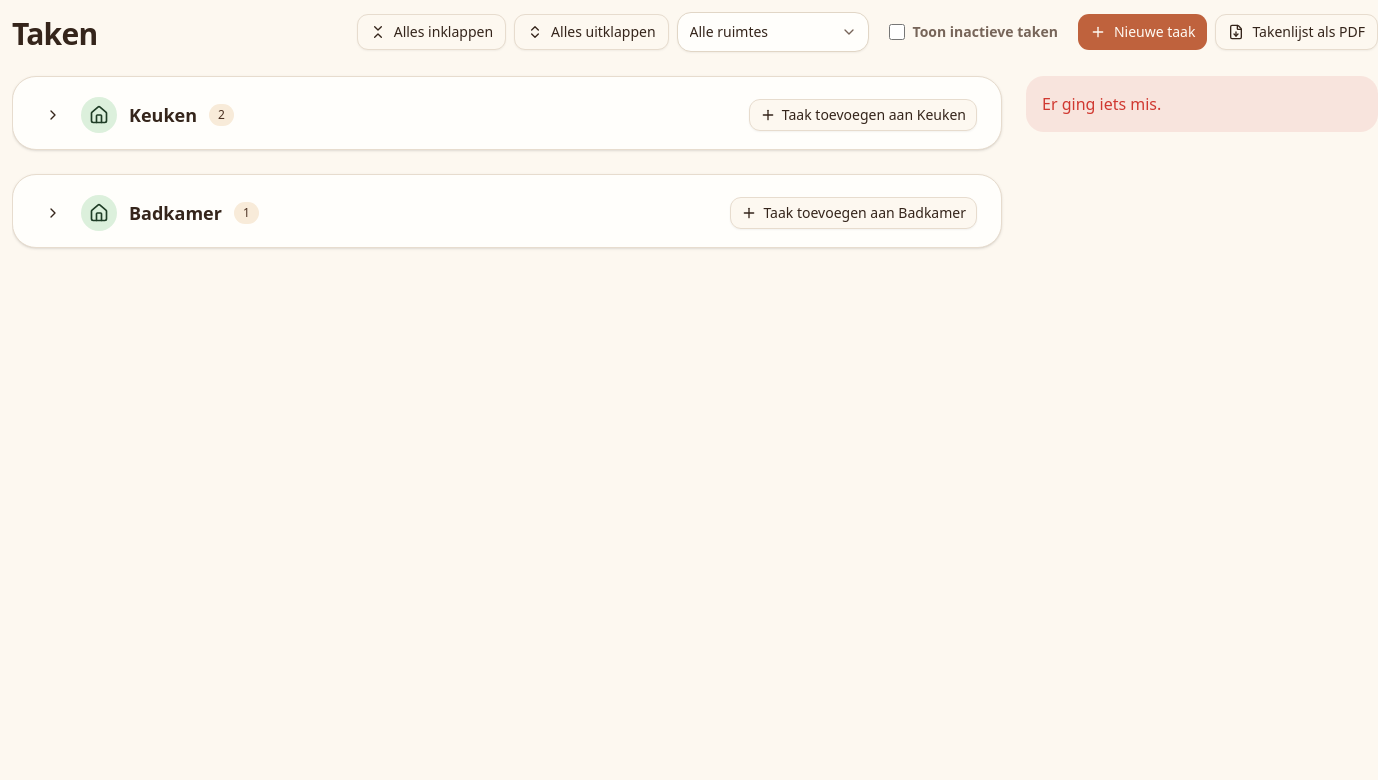
TasksPage — grouping › starts with every room collapsed and can expand one room or all rooms
Expected: the text "Aanrecht" is not shown
Expected: the text "Douche" is not shown
Click the button named "Keuken uitklappen". click: (53, 115)
box: [37,99,69,131]
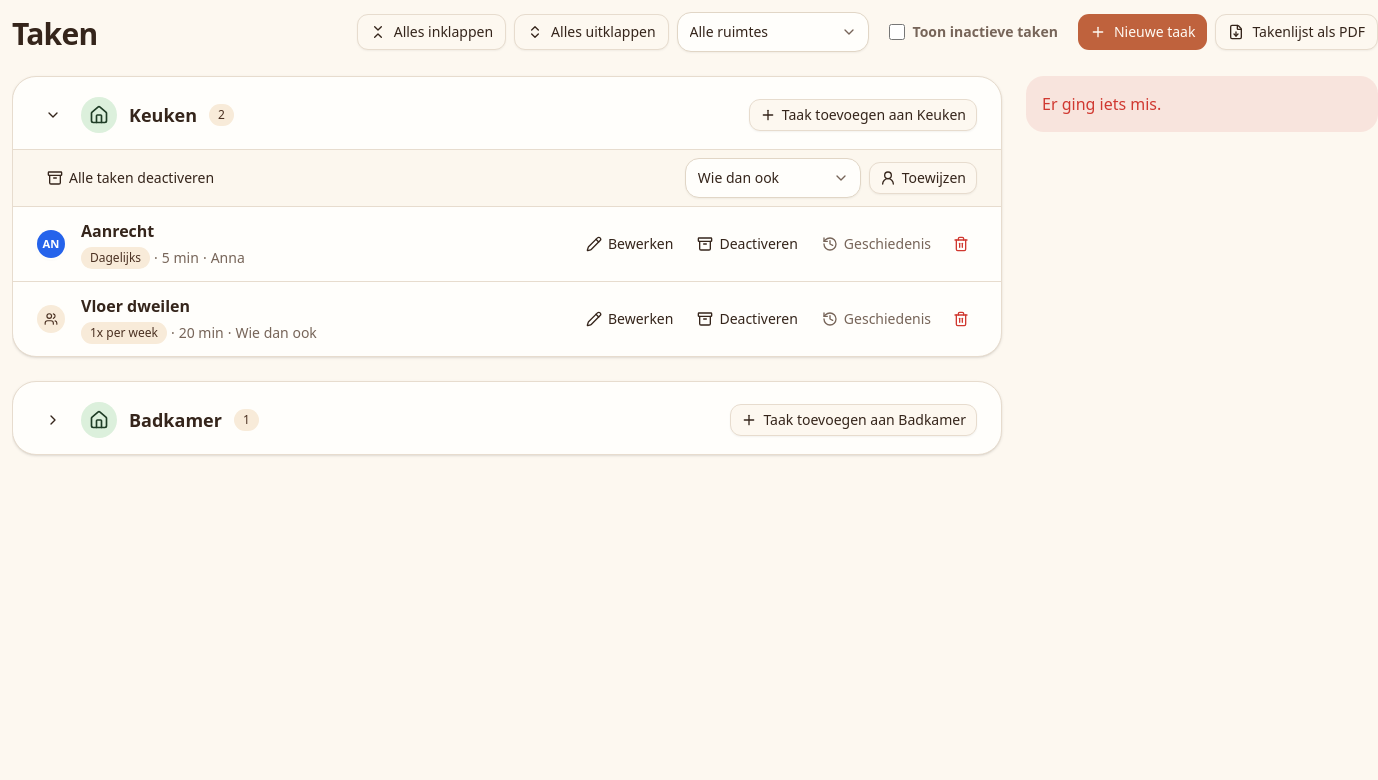
Expected: the text "Douche" is not shown
Expected: the text "Aanrecht" is shown, [81,219,154,243]
Click the button "Alles inklappen". click: (431, 32)
box: [357,14,506,50]
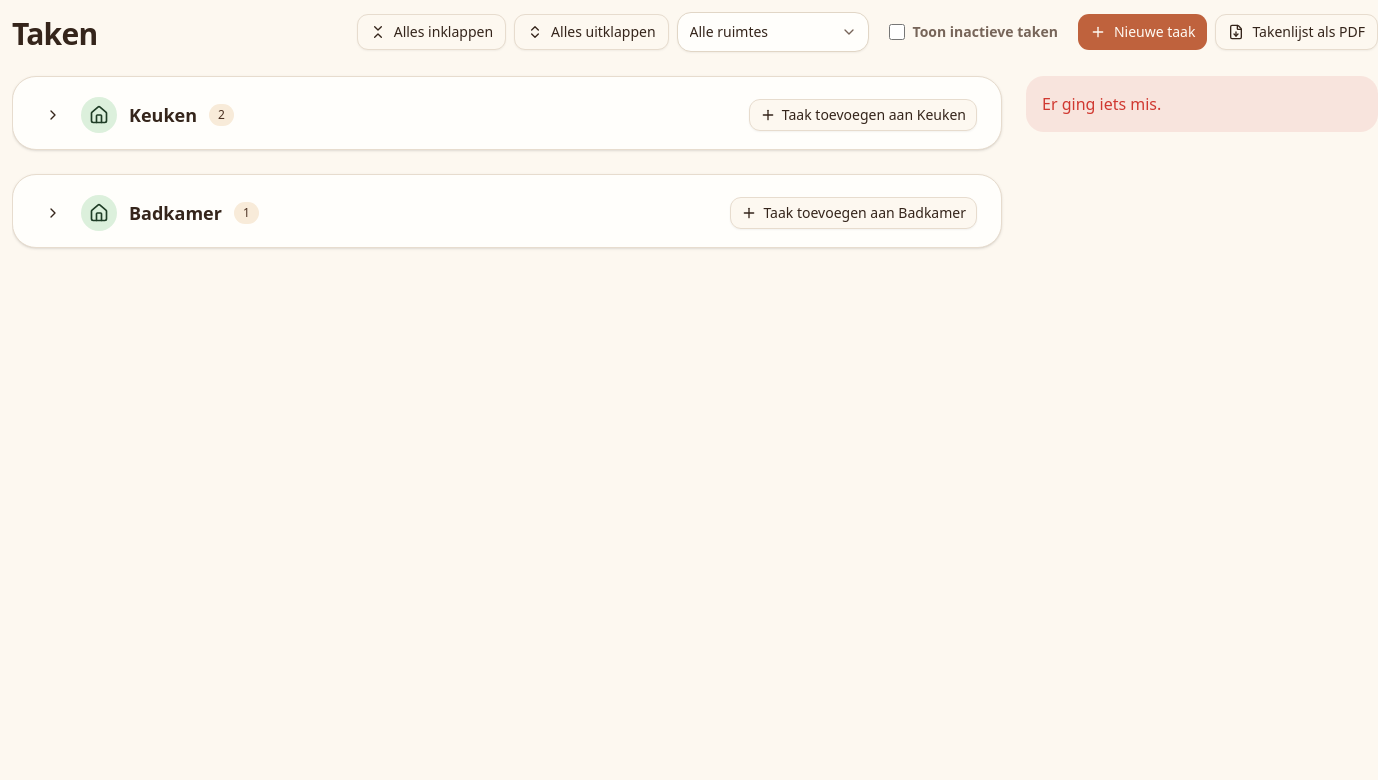
Expected: the text "Aanrecht" is gone
Click the button "Alles uitklappen". click: (591, 32)
box: [514,14,669,50]
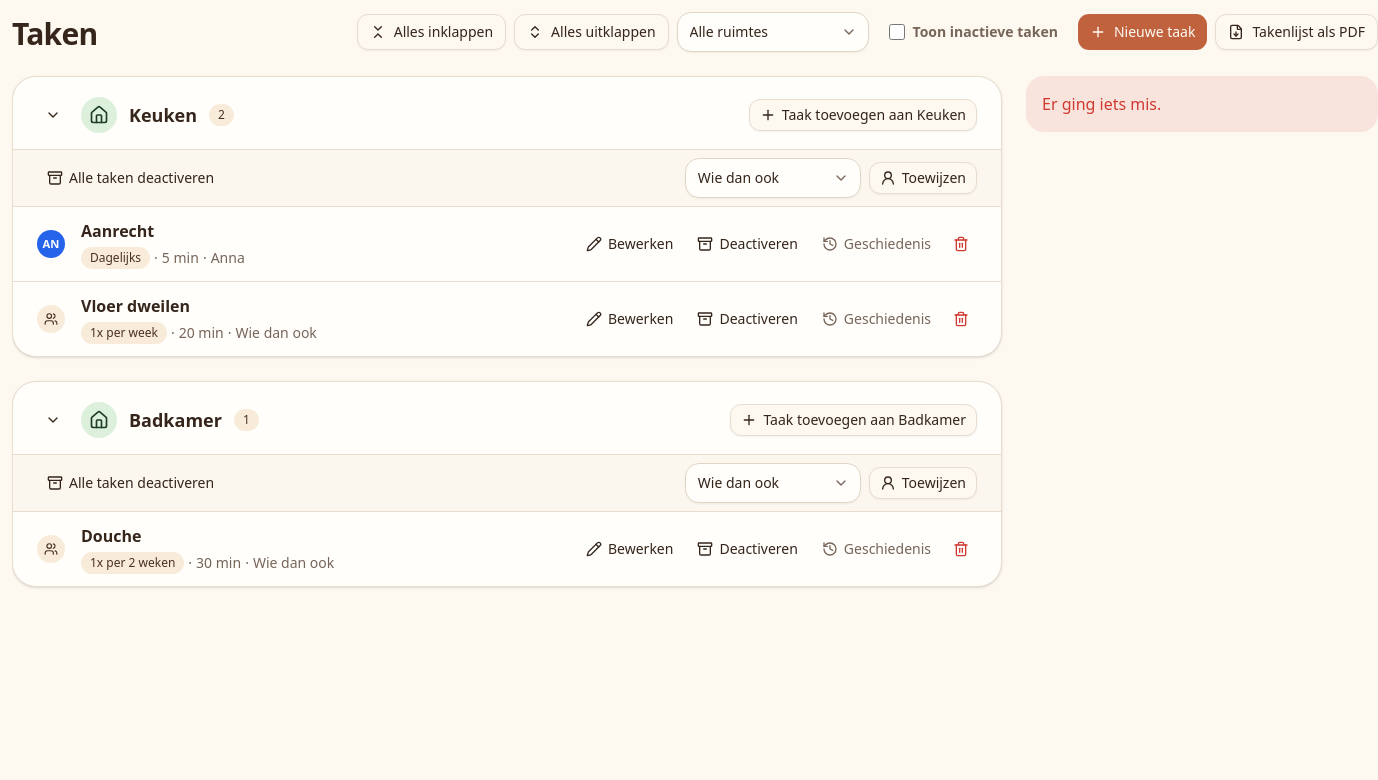
Expected: the text "Aanrecht" is shown, [81,219,154,243]
Expected: the text "Douche" is shown, [81,524,142,548]
